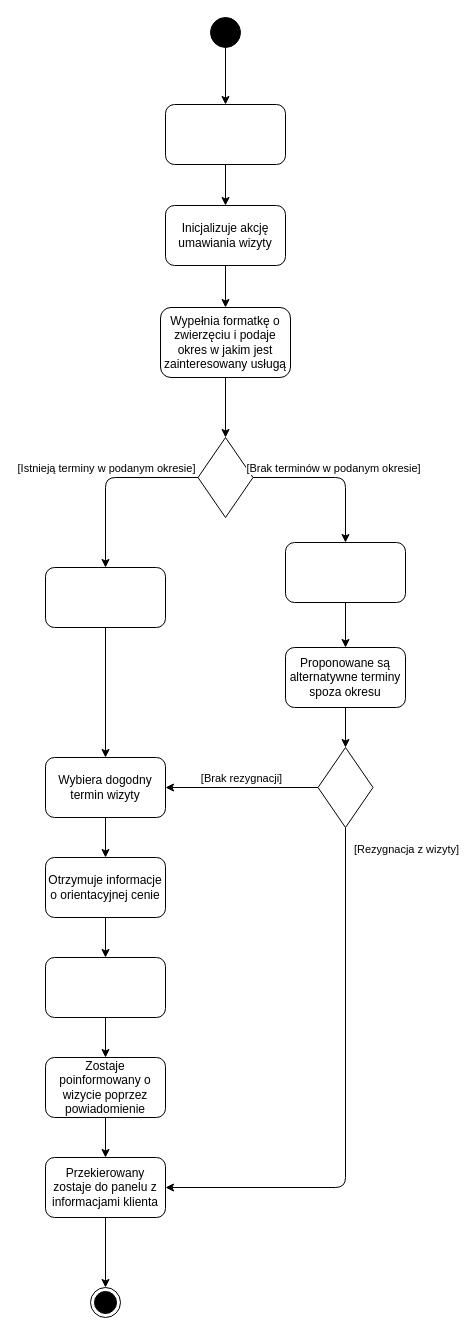
Image size: 476x1335. Some labels were removed from this diagram. The centre of each missing label's shape, as x and y in pixels:
"Otrzymuje informacje o braku dostępnych terminów" goes at pixel 345 572.
"Otrzymuje informacje o dostępnych terminach wizyt w podanym okresie" goes at pixel 105 597.
"Potwierdza wizytę" goes at pixel 105 987.
"Użytkownik loguje się do systemu" goes at pixel 225 134.
